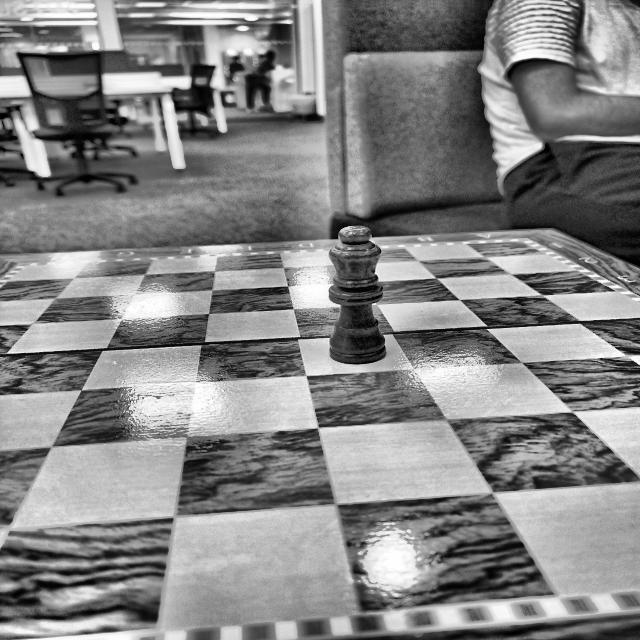black-queen: (328, 225, 386, 364)
